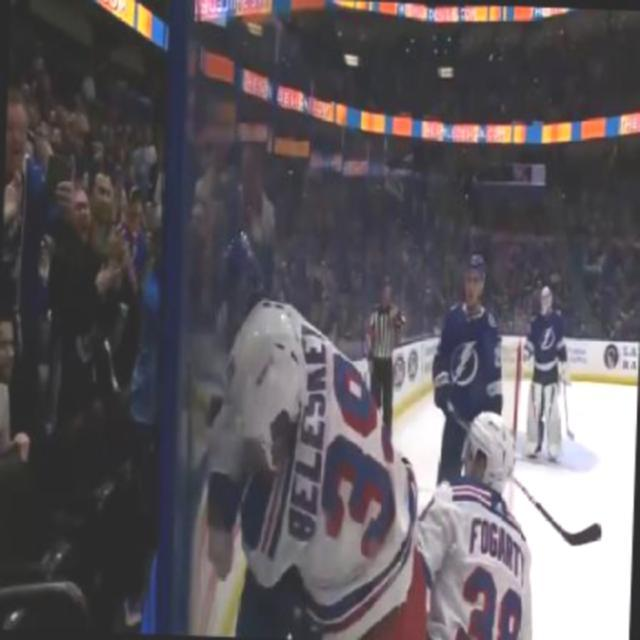fight: (200, 296, 429, 638)
non-fight: (427, 252, 507, 510), (514, 282, 574, 468)
